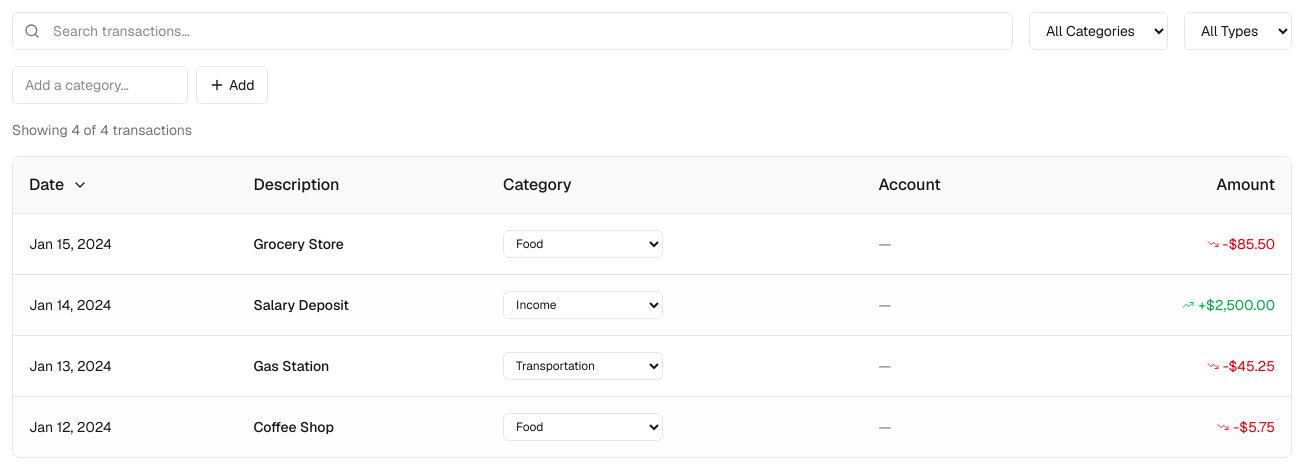
Test: TransactionTable › combines multiple filters correctly
Note: Filter by category
Select "Food" in the dropdown named "Filter by category" at coordinates (1098, 31), box [1029,12,1168,50]
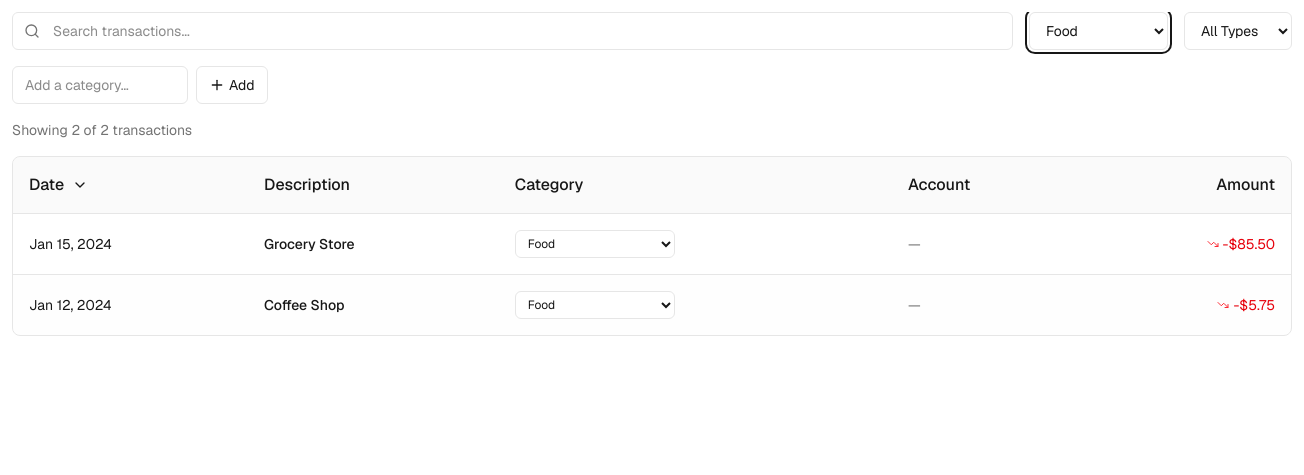
Note: Then search within that category
Type "coffee" into the field with placeholder "Search transactions..." at coordinates (512, 31), box [12,12,1013,50]
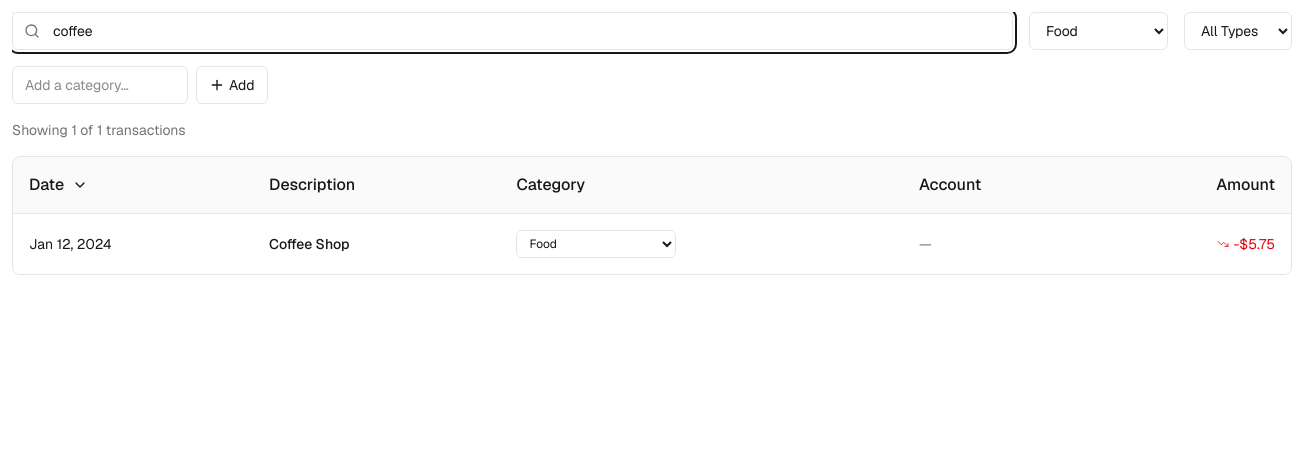
Expected: the text "Coffee Shop" is shown, [253,214,500,274]
Expected: the text "Grocery Store" is gone
Expected: the text "Showing 1 of 1 transactions" is shown, [12,121,186,139]
